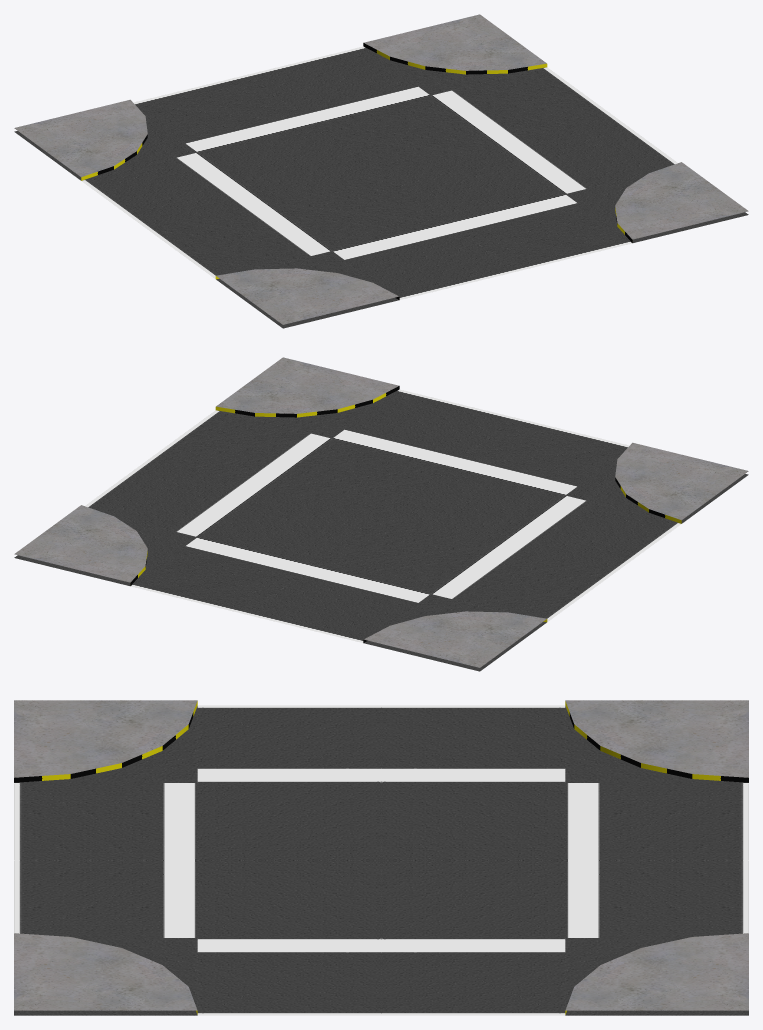
File: street_1.glb
3 views of the same model, one above another, from view 1: azimuth 30°, elevation 25°; view 2: azimuth 150°, elevation 25°; view 3: azimuth 270°, elevation 25° (orthographic). The views are drawn at different scales.
Parts seen in each view (by area): view 1: 2LanesXIntersection; view 2: 2LanesXIntersection; view 3: 2LanesXIntersection.
Boxes of the visible parts, bbox=[...] form: 2LanesXIntersection: bbox=[14, 14, 748, 328]; 2LanesXIntersection: bbox=[14, 357, 748, 671]; 2LanesXIntersection: bbox=[14, 700, 748, 1015].
Bounding box in the file's own units: 12 × 0.09 × 12.
10 materials, 10 textured.
